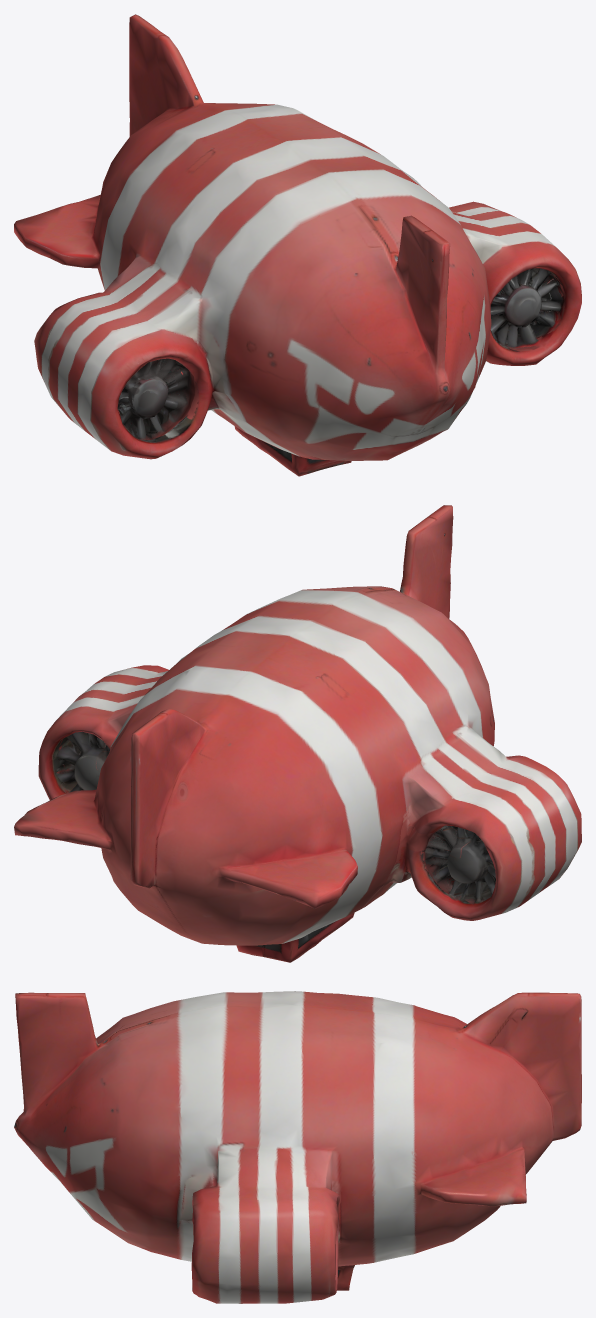
The model's file is Angry_Airship_1213235858_texture.fbx.
3 renders of one model, top to bottom at view 1: azimuth 30°, elevation 25°; view 2: azimuth 150°, elevation 25°; view 3: azimuth 270°, elevation 25°, orthographic. The views are drawn at different scales.
Visible parts, largest first — view 1: Mesh_0; view 2: Mesh_0; view 3: Mesh_0.
Part boxes in pixels (left/top/right/bottom): Mesh_0: left=14, top=14, right=581, bottom=476; Mesh_0: left=14, top=505, right=581, bottom=962; Mesh_0: left=14, top=991, right=581, bottom=1303.
Bounding box in the file's own units: 179 × 112 × 201.
1 material, 1 textured.
